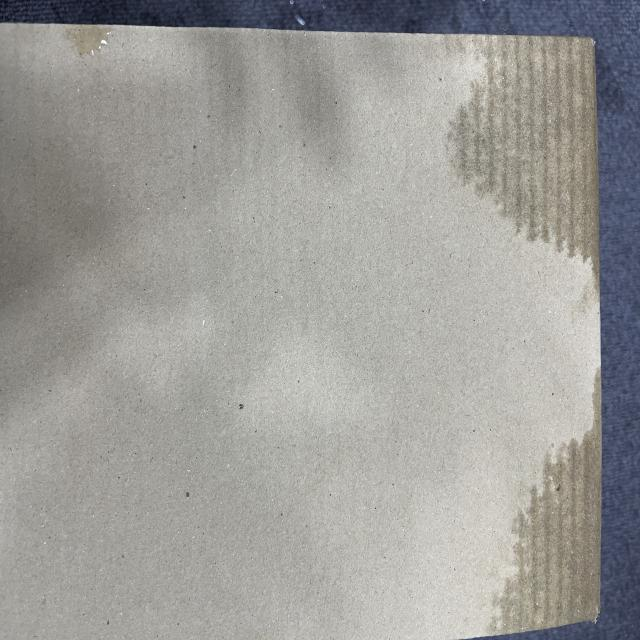wet: (442, 32, 618, 274), (514, 407, 599, 631)
